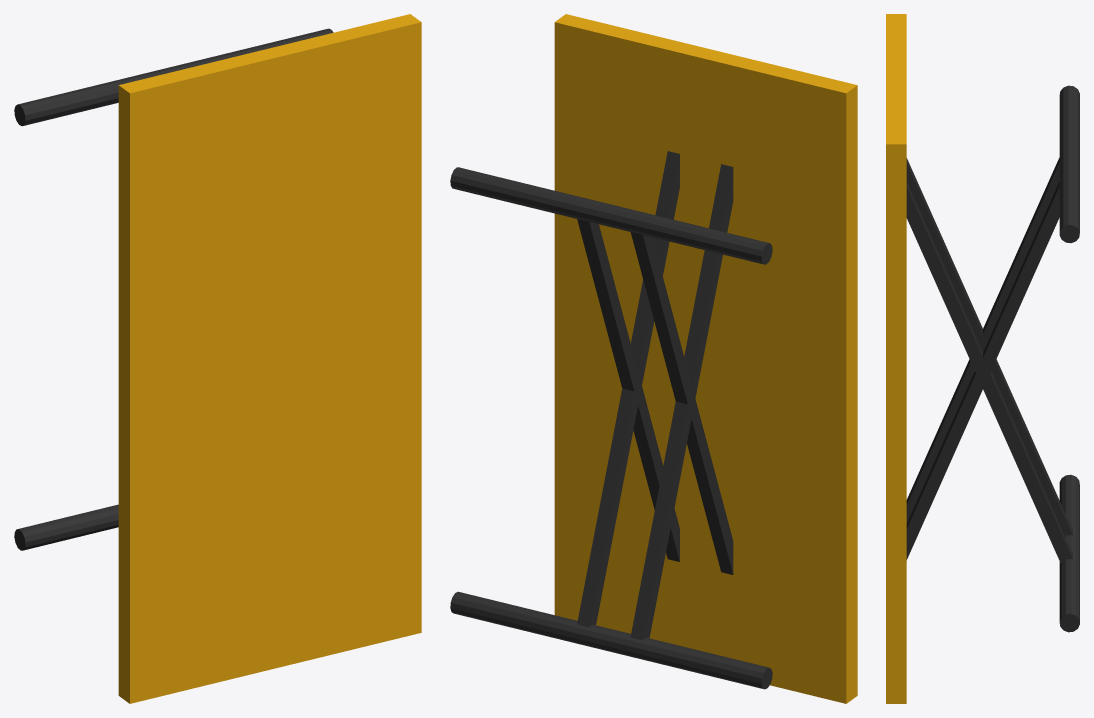
Rendered from nil_link_mesh.dae.
3 views of the same model, side by side, from view 1: azimuth 30°, elevation 25°; view 2: azimuth 150°, elevation 25°; view 3: azimuth 270°, elevation 25° (orthographic). The views are drawn at different scales.
Parts seen in each view (by area): view 1: nil_link (×3); view 2: nil_link (×7); view 3: nil_link (×7).
Part boxes in pixels (<box>): nil_link (×3): <box>14,14,421,703</box>; nil_link (×7): <box>450,14,857,703</box>; nil_link (×7): <box>886,14,1079,703</box>.
Bounding box in the file's own units: 0.64 × 1.2 × 0.377.
